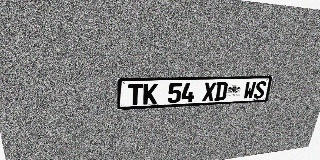plate: (117, 76, 273, 110)
